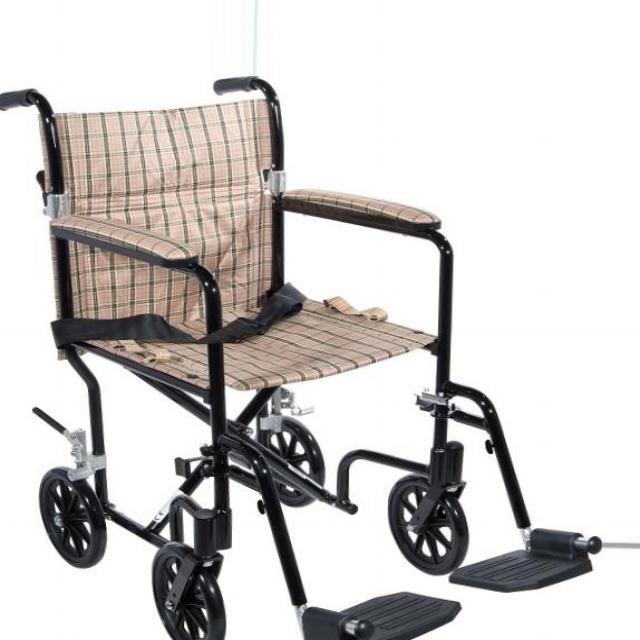wheelchair: (0, 75, 607, 640)
